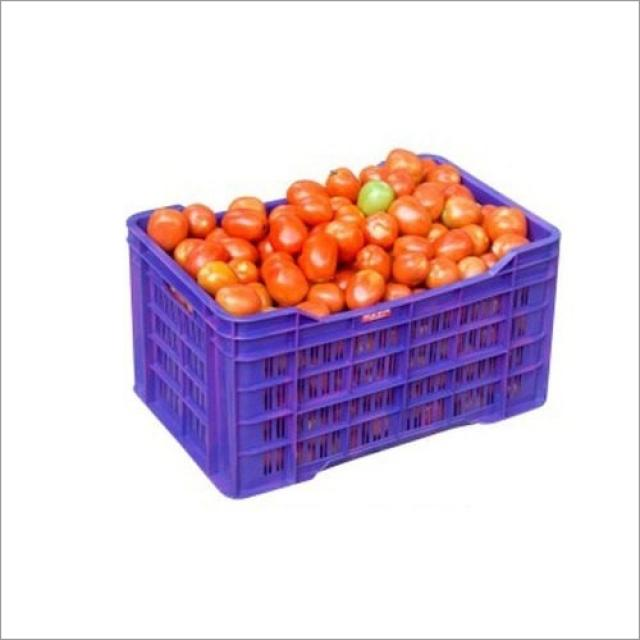basket: (126, 211, 561, 500)
